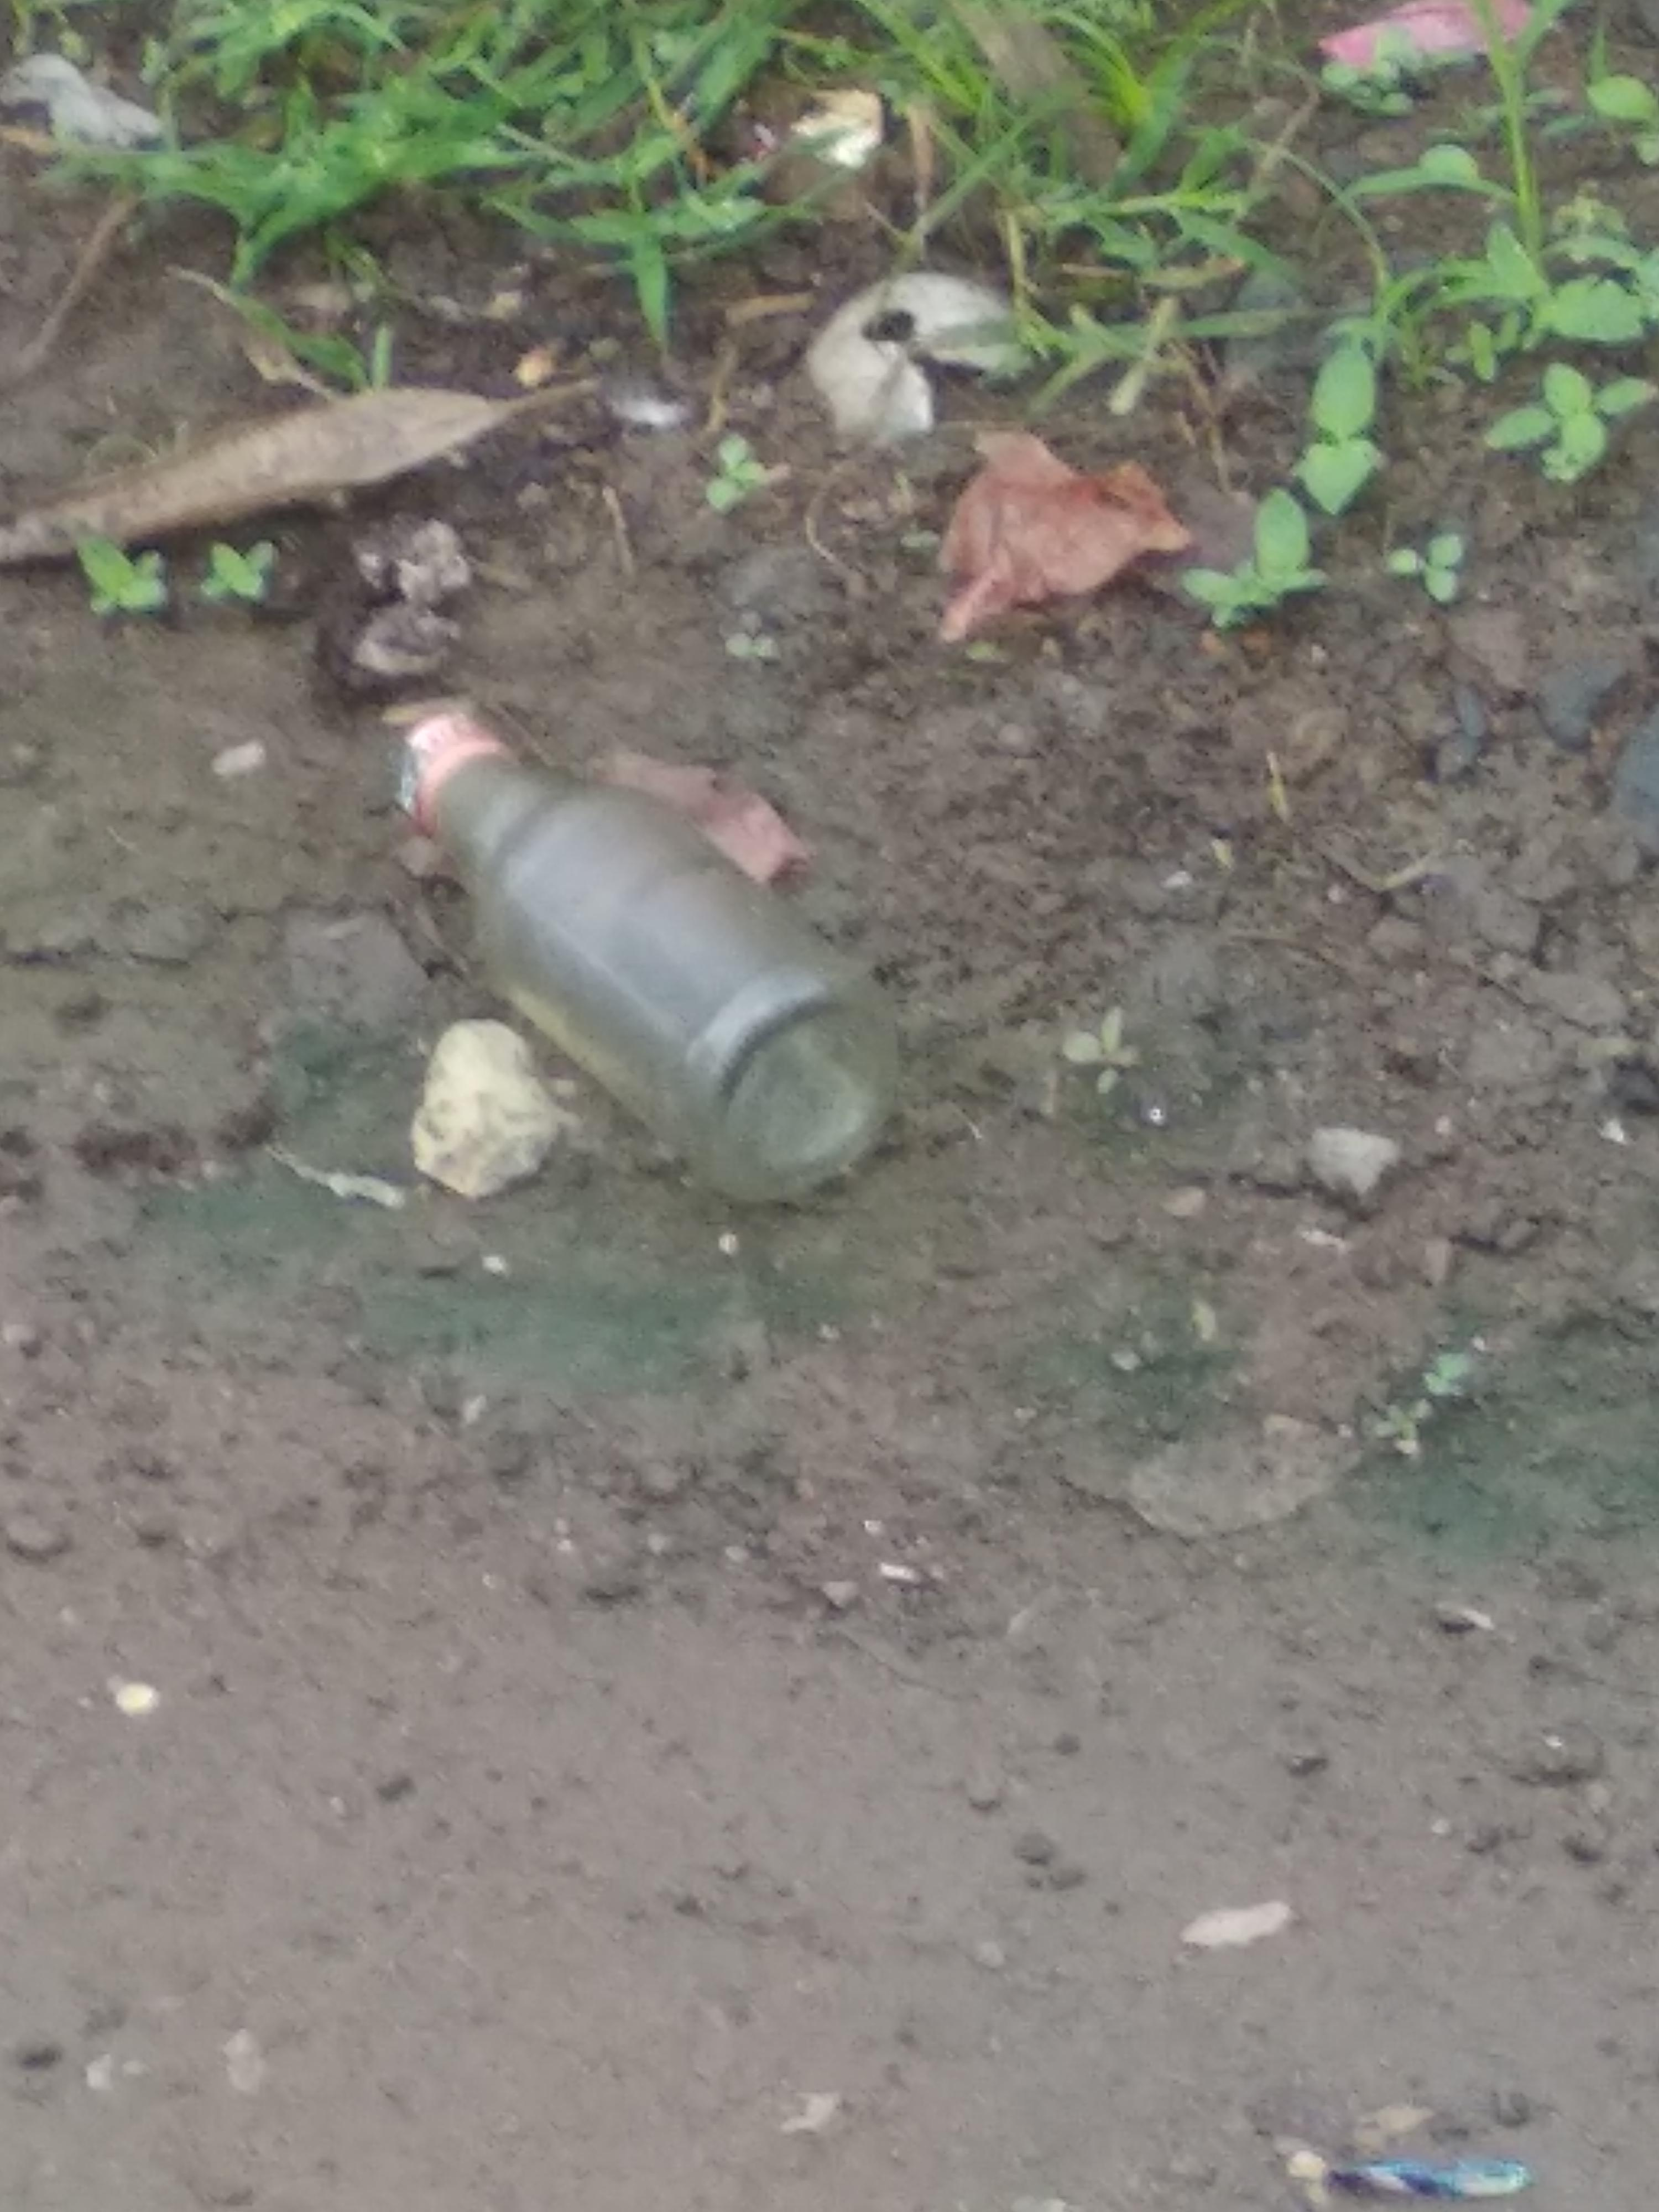trash: (336, 712, 927, 1287)
